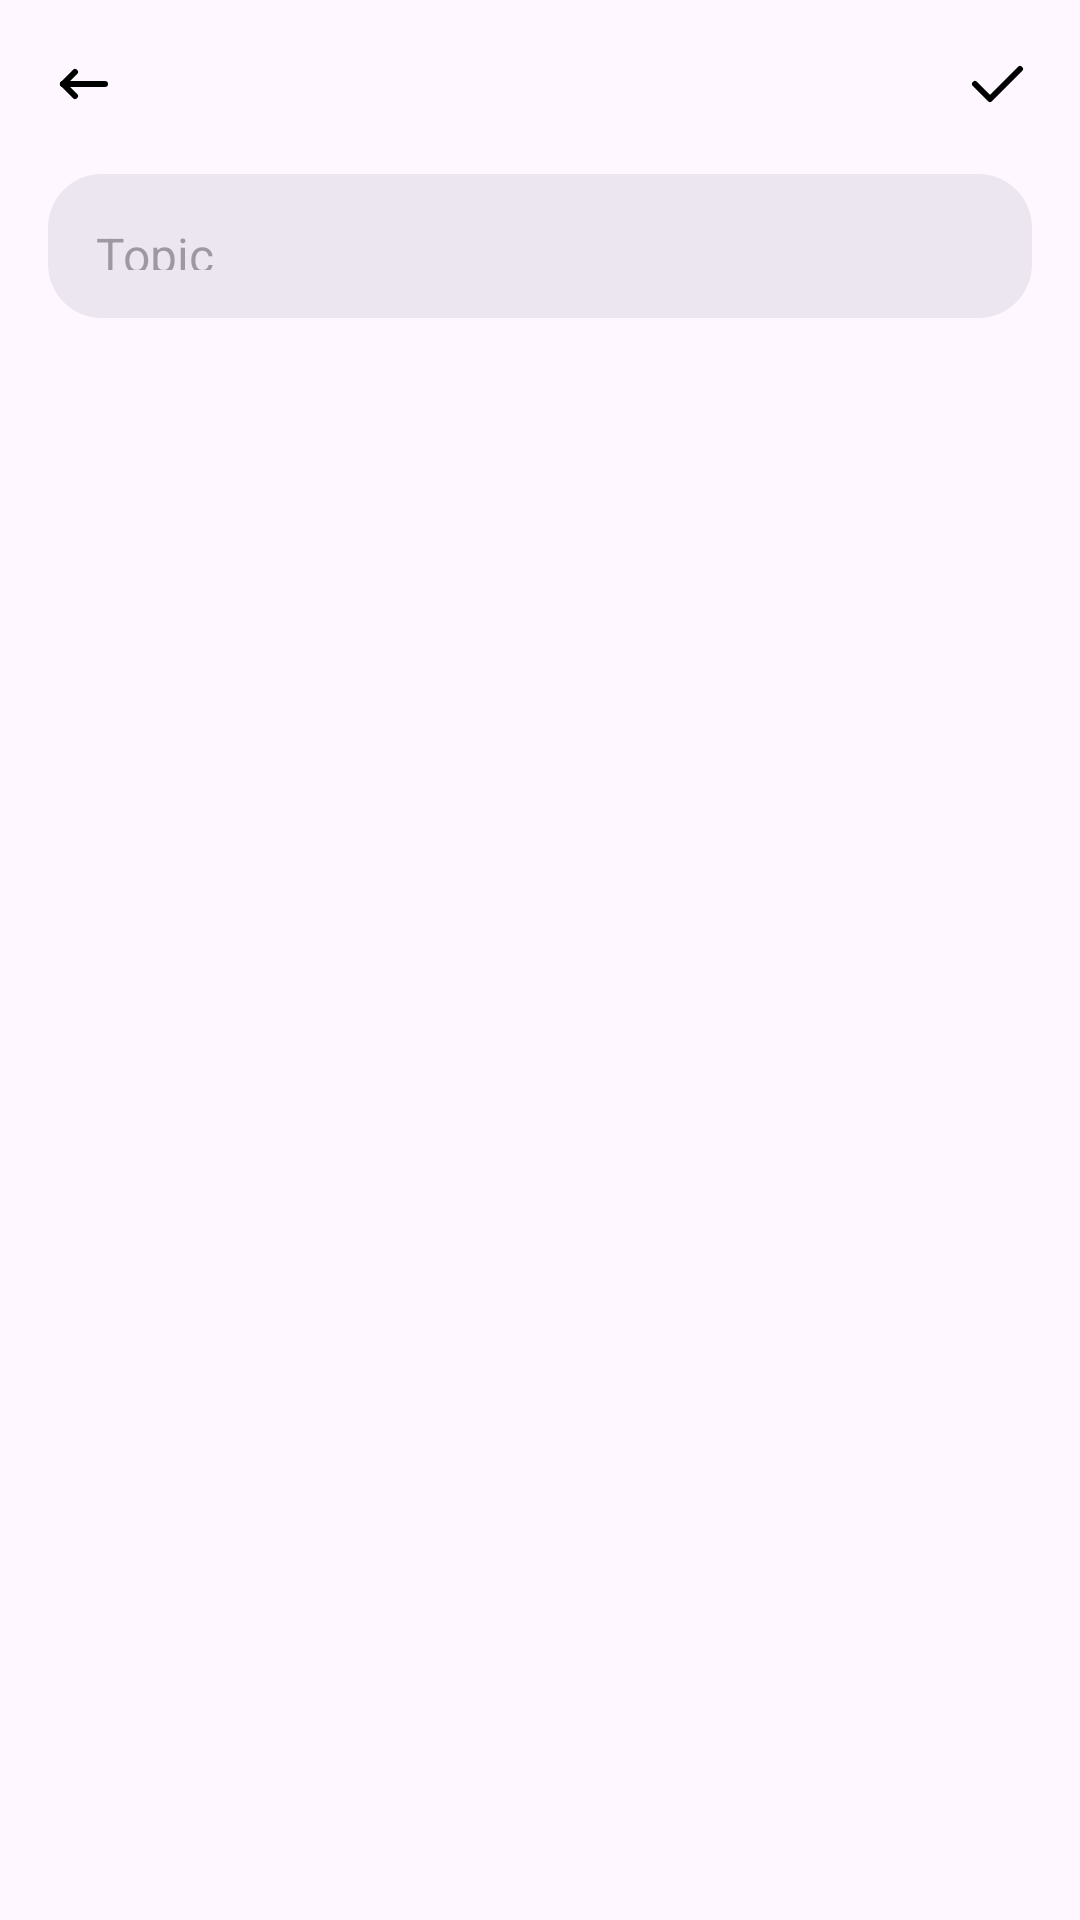

Screen size 1080 × 1920. Icon name, then its box in pixels as (x1, y1, x2, y2):
check: (972, 66, 1023, 102)
